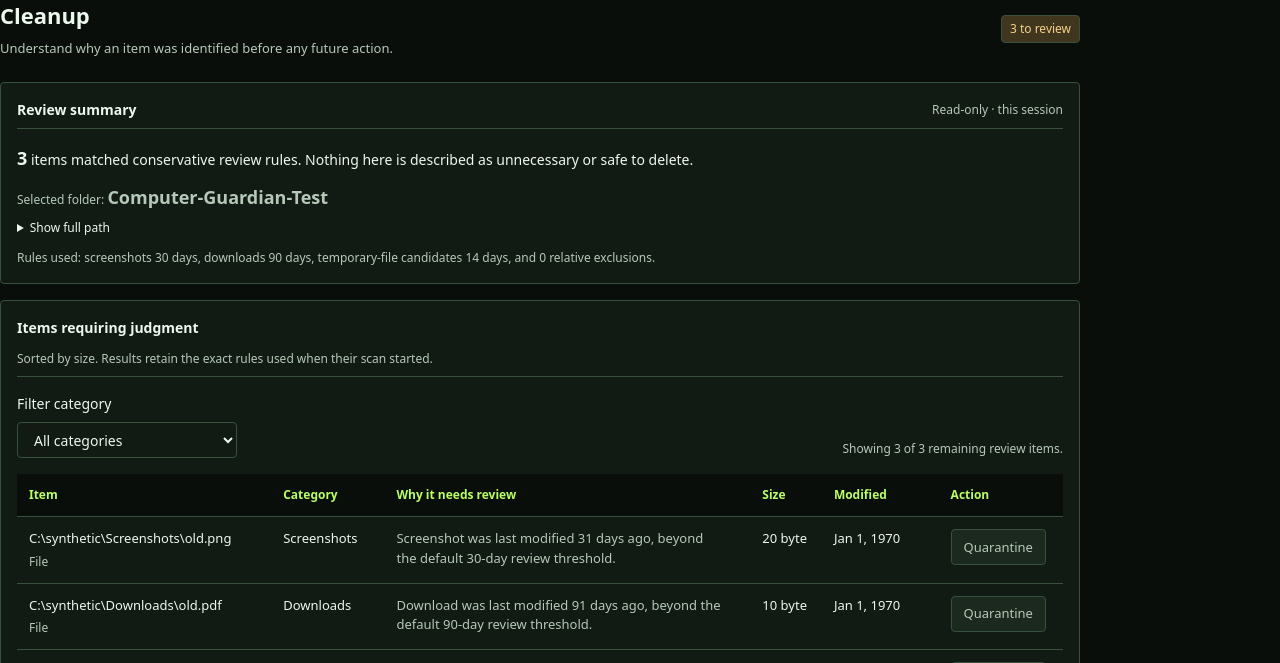
Test: cleanup review › shows a friendly folder name and keeps the technical path optional
Expected: the text "Computer-Guardian-Test" is shown, [107, 185, 328, 209]
Expected: the text "C:\\Users\\Example\\Computer-Guardian-Test" is not shown
Click the heading "Show full path". click: (63, 228)
box: [17, 219, 110, 237]
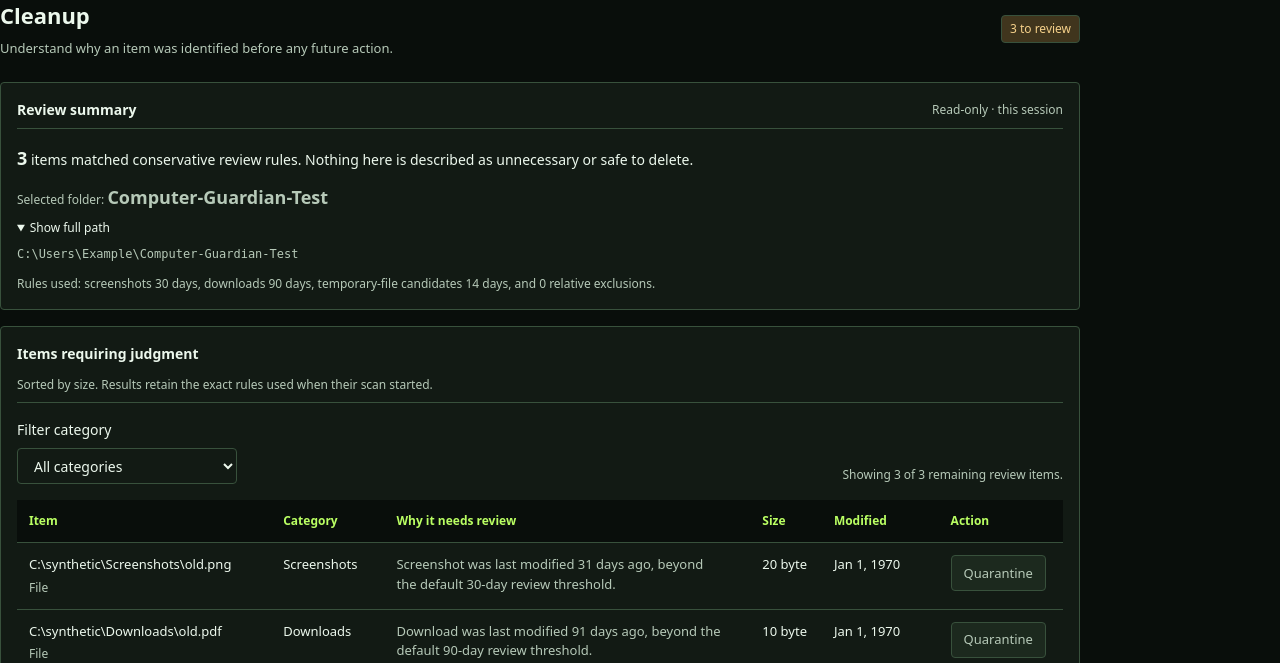
Now the text "C:\\Users\\Example\\Computer-Guardian-Test" is shown, box [17, 247, 298, 261]
